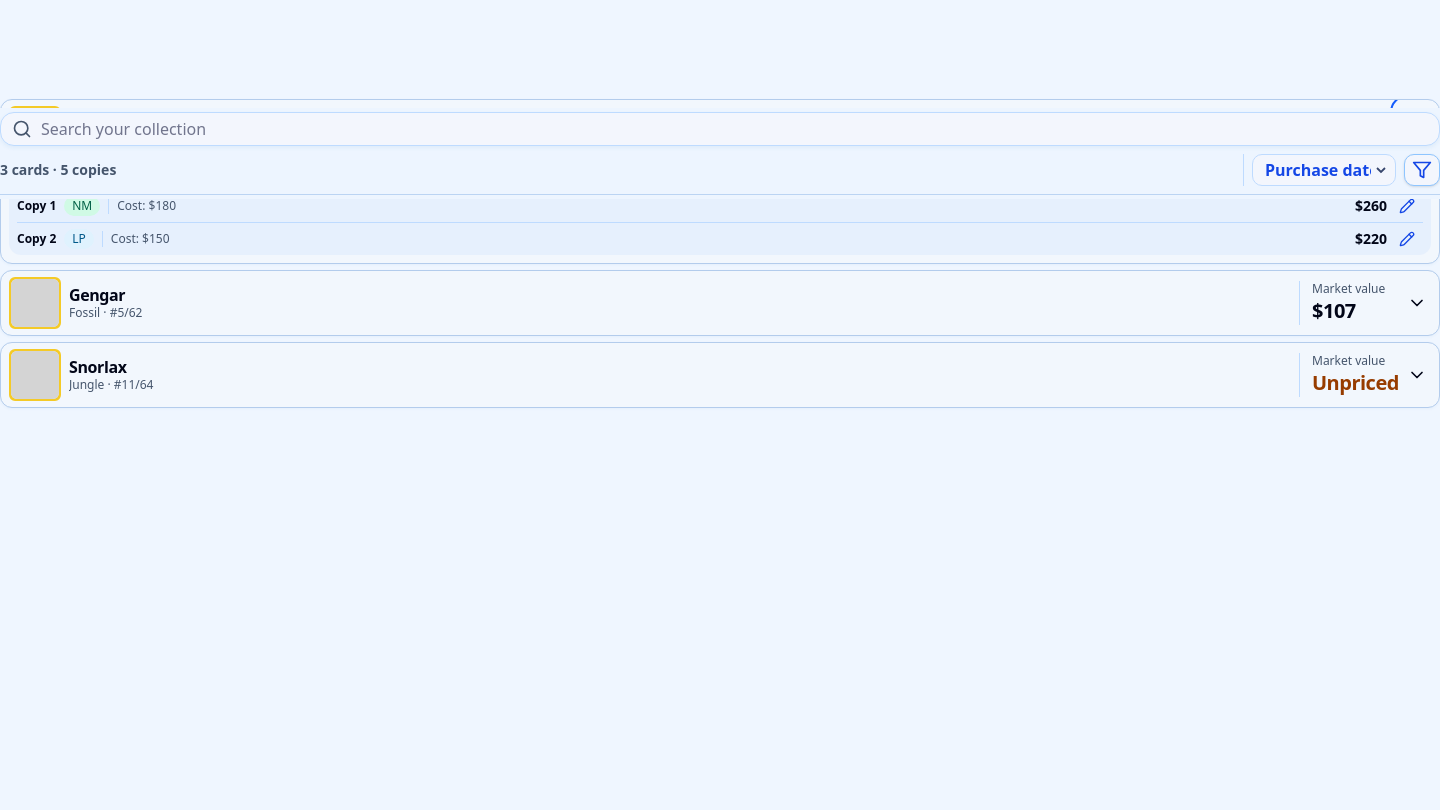
opens per-copy Details directly from the compact expanded Cards row
Earlier steps of the test are not shown.
expect the button named "2 copies: Charizard" is expanded: met, box [1395,100,1439,164]
Click the button named "Details charizard-b" at (35, 246), box [17,222,1351,254]
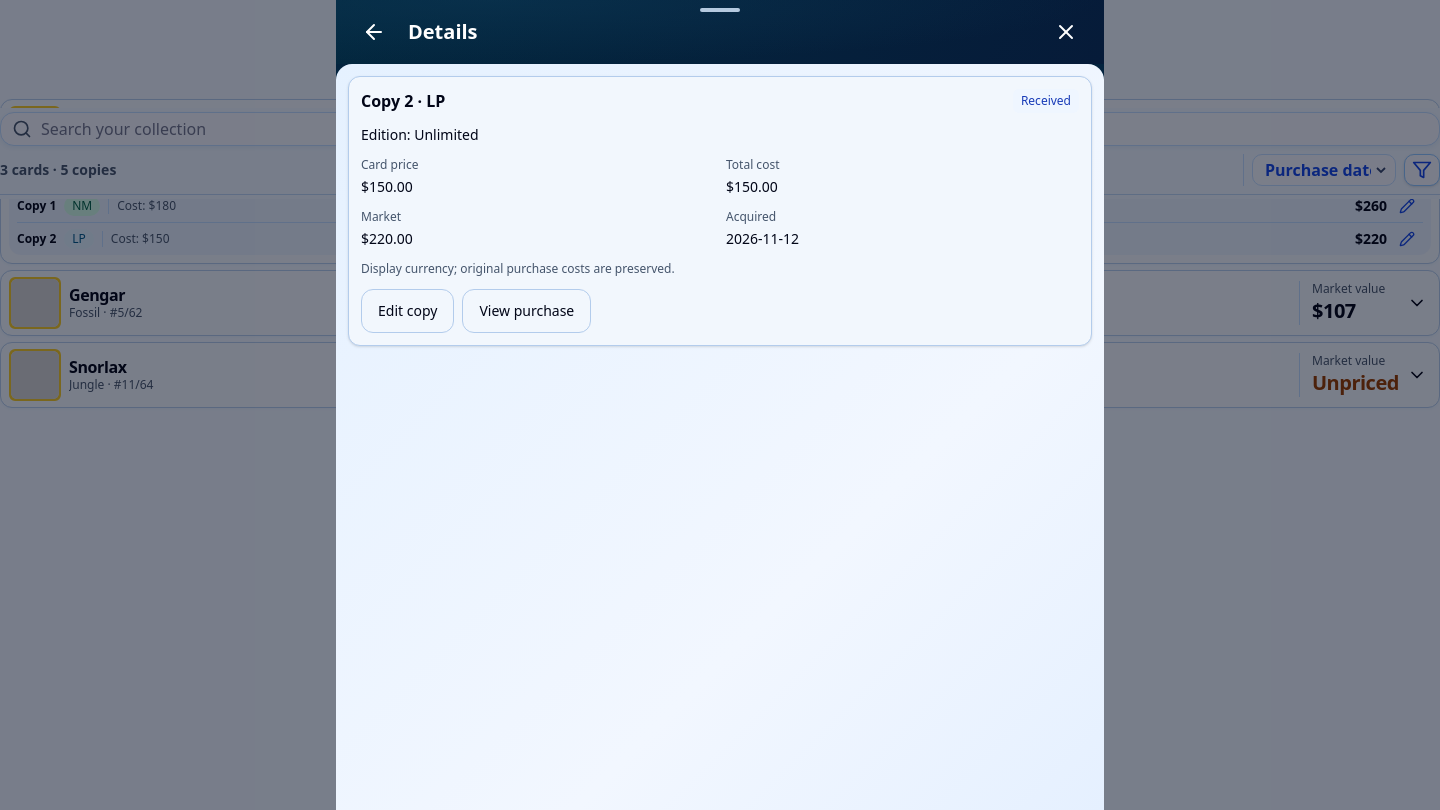
expect the text "$150.00" is shown 2 times: met, box [361,177,413,196]; [726,177,778,196]
